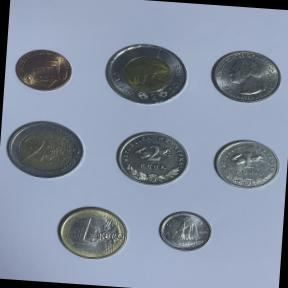coin: (98, 36, 193, 110), (0, 112, 90, 184), (108, 124, 196, 192), (51, 200, 133, 264), (206, 44, 286, 108), (9, 44, 78, 96), (153, 206, 218, 256)
